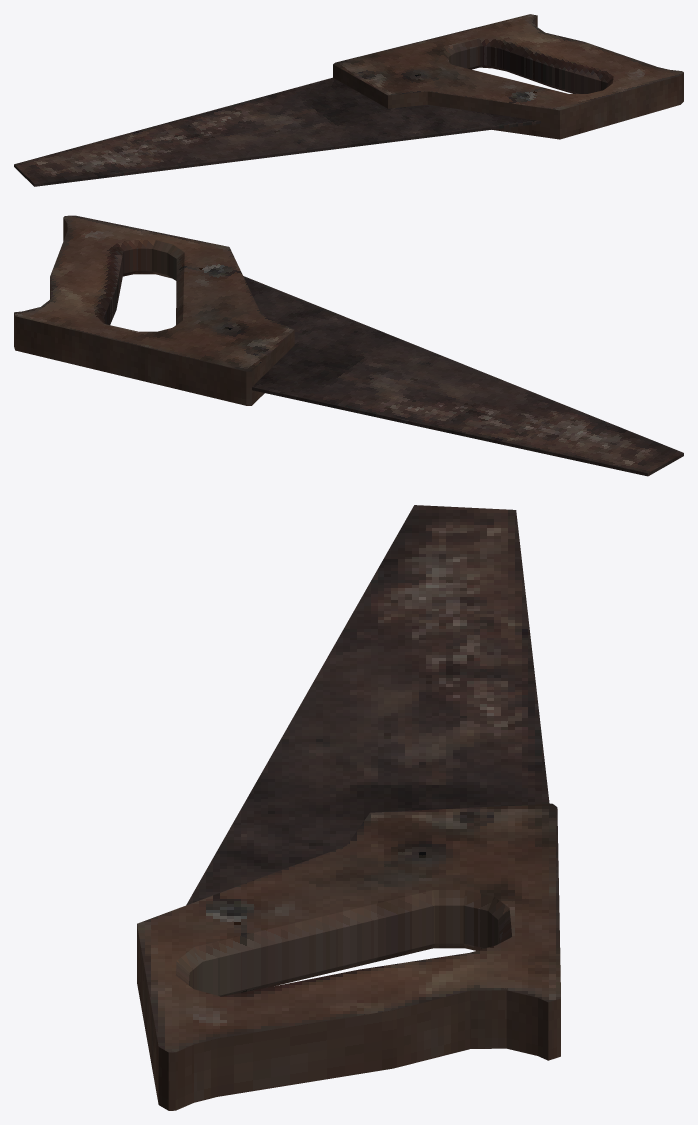
File: hand_saw_1.glb
The picture shows the model from 3 angles, top to bottom: view 1: azimuth 30°, elevation 25°; view 2: azimuth 150°, elevation 25°; view 3: azimuth 270°, elevation 25°; orthographic projection. The views are drawn at different scales.
Parts seen in each view (by area): view 1: hand_saw_1; view 2: hand_saw_1; view 3: hand_saw_1.
Boxes of the visible parts, x1,y1,x2,y2 form: hand_saw_1: [14, 14, 683, 186]; hand_saw_1: [14, 215, 683, 476]; hand_saw_1: [137, 505, 560, 1110].
Bounding box in the file's own units: 0.6965 × 0.033 × 0.2175.
Materials: 1 (1 with a texture image).
